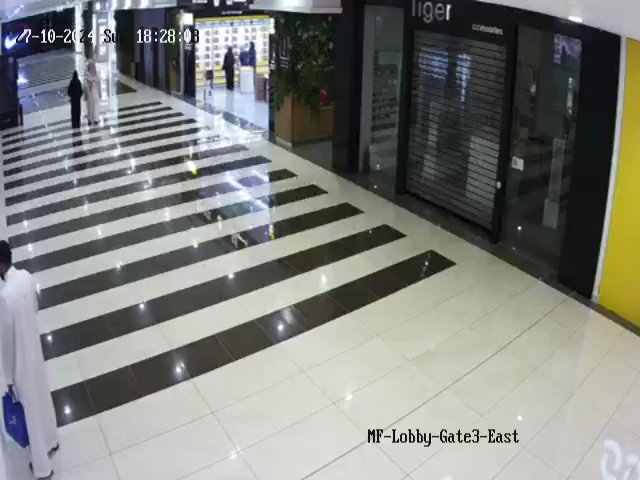female: (67, 70, 84, 129), (221, 45, 235, 90)
male: (0, 240, 60, 480), (82, 60, 105, 130)
